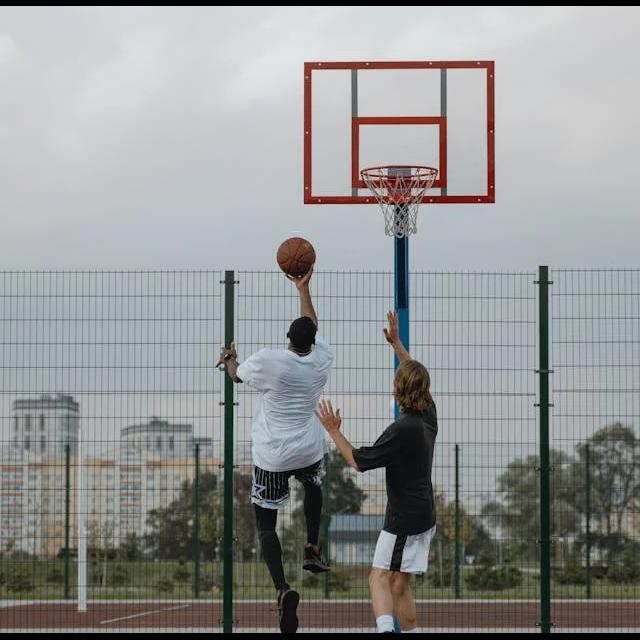basketball: (275, 236, 314, 276)
hoop: (361, 164, 439, 238)
